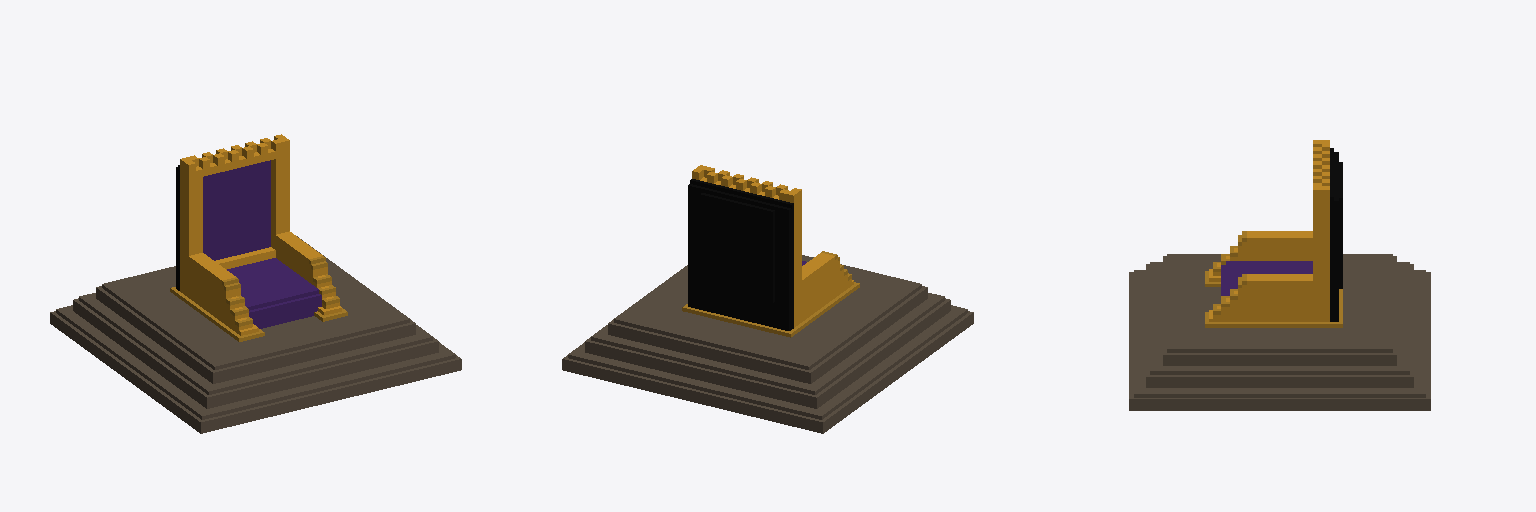
3 views of the same model, side by side, from view 1: azimuth 30°, elevation 25°; view 2: azimuth 150°, elevation 25°; view 3: azimuth 270°, elevation 25° (orthographic).
Visible parts, largest first — view 1: object 1; view 2: object 1; view 3: object 1.
Boxes of the visible parts, x1=… form: object 1: x1=50, y1=134, x2=461, y2=433; object 1: x1=562, y1=165, x2=973, y2=433; object 1: x1=1129, y1=140, x2=1430, y2=410.
Size of the model in its own units: 7.2 by 4.8 by 7.2.
1 materials, 1 textured.